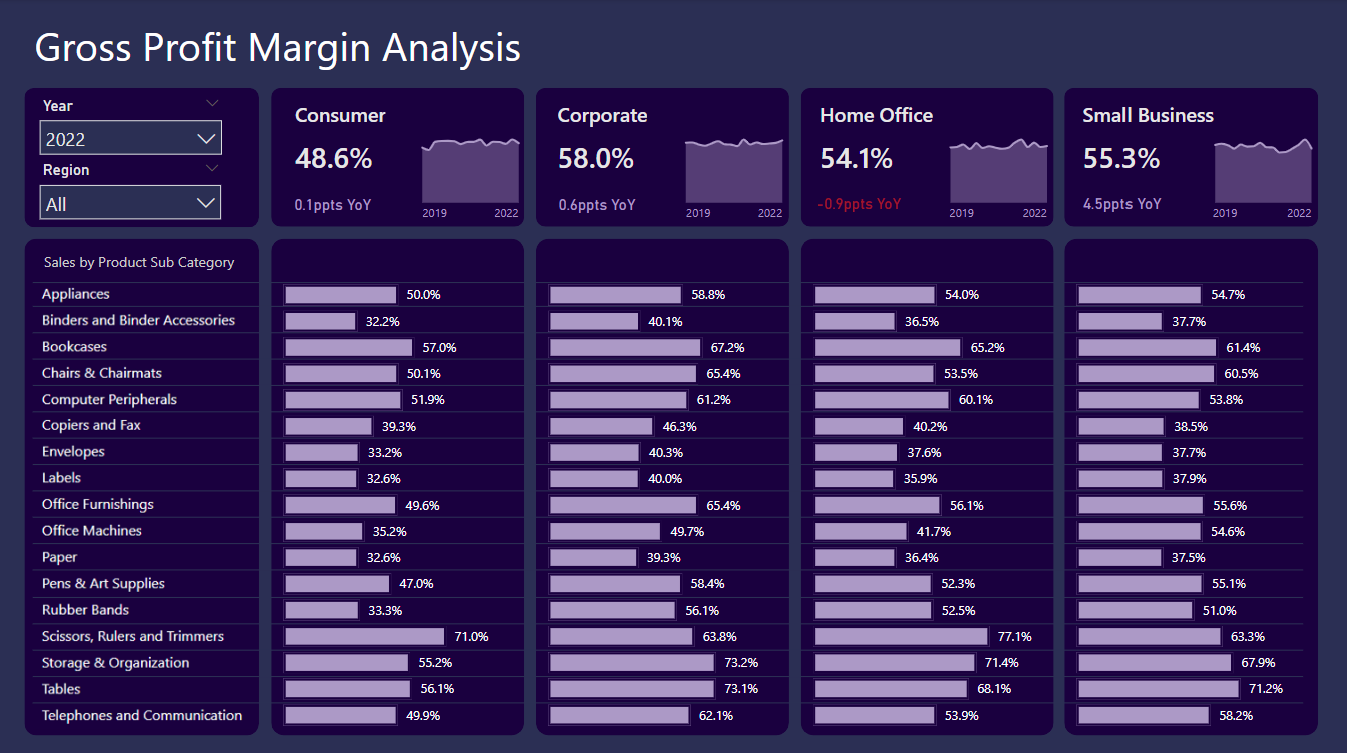

Layout of this report page (visuals, bound fields, positions):
{"tool":"powerbi","page":{"name":"Profitability Analysis by Product and Segment","canvas":[1280,720],"ordinal":2},"visuals":[{"type":"shape","box":[25,83.8,222.5,132.5],"z":0},{"type":"shape","box":[25,227.5,222.5,471.2],"z":1000},{"type":"shape","box":[510,83.7,240,132],"z":2000},{"type":"shape","box":[761.5,83.8,240,132],"z":3000},{"type":"shape","box":[1011.5,84,240,132],"z":4000},{"type":"shape","box":[258.8,83.7,240,132],"z":5000},{"type":"cardVisual","fields":{"Data":["orders_cleaned.Weighted Avg Margin - Consumer (%)","orders_cleaned.Weighted Avg Margin - Corporate","orders_cleaned.Weighted Avg Margin - Home Office","orders_cleaned.Weighted Avg Margin - Small Business"]},"box":[255.2,87.5,997.5,111.2],"z":6000},{"type":"slicer","fields":{"Values":["orders_cleaned.ORDER_YEAR"]},"box":[30,87.5,192.5,71.2],"z":7000},{"type":"areaChart","fields":{"Category":["orders_cleaned.ORDERDATE.Variation.Date Hierarchy.Year","orders_cleaned.ORDERDATE.Variation.Date Hierarchy.Quarter"],"Y":["orders_cleaned.Weighted Avg Margin - Consumer"]},"box":[387.5,118.8,121.4,80],"z":8000},{"type":"areaChart","fields":{"Category":["orders_cleaned.ORDERDATE.Variation.Date Hierarchy.Year","orders_cleaned.ORDERDATE.Variation.Date Hierarchy.Quarter"],"Y":["orders_cleaned.Weighted Avg Margin - Corporate"]},"box":[637.7,118.7,121.4,80],"z":9000},{"type":"areaChart","fields":{"Category":["orders_cleaned.ORDERDATE.Variation.Date Hierarchy.Year","orders_cleaned.ORDERDATE.Variation.Date Hierarchy.Quarter"],"Y":["orders_cleaned.Weighted Avg Margin - Home Office"]},"box":[888.2,118.8,121.4,80],"z":10000},{"type":"areaChart","fields":{"Category":["orders_cleaned.ORDERDATE.Variation.Date Hierarchy.Year","orders_cleaned.ORDERDATE.Variation.Date Hierarchy.Quarter"],"Y":["orders_cleaned.Weighted Avg Margin - Small Business"]},"box":[1138.7,119.1,121.4,80],"z":11000},{"type":"textbox","box":[398,187,49,33],"z":12000},{"type":"textbox","box":[466,187,46,34],"z":13000},{"type":"textbox","box":[647,187,51,33],"z":14000},{"type":"textbox","box":[715.8,187.2,42.5,32.5],"z":15000},{"type":"textbox","box":[898,187.2,42.5,32.5],"z":16000},{"type":"textbox","box":[966.7,187.2,42.5,32.5],"z":17000},{"type":"textbox","box":[1146.2,187.5,41.2,32.5],"z":18000},{"type":"textbox","box":[1216.2,187.5,43.8,28.8],"z":19000},{"type":"card","fields":{"Values":["orders_cleaned.Weighted Avg Margin YoY Change - Consumer (ppts)"]},"box":[265.5,178.3,103.2,34.9],"z":20000},{"type":"card","fields":{"Values":["orders_cleaned.Weighted Avg Margin YoY Change - Corporate (ppts)"]},"box":[516.2,178.3,104.6,34.9],"z":21000},{"type":"card","fields":{"Values":["orders_cleaned.Weighted Avg Margin YoY Change - Home Office (ppts)"]},"box":[766.1,178.6,100.5,34.4],"z":22000},{"type":"card","fields":{"Values":["orders_cleaned.Weighted Avg Margin YoY Change - Small Business (ppts)"]},"box":[1013.5,178.6,104.5,34.4],"z":23000},{"type":"shape","box":[258.8,227.5,240,471.2],"z":24000},{"type":"shape","box":[510,227.5,240,471.2],"z":25000},{"type":"shape","box":[761.2,227.5,240,471.2],"z":26000},{"type":"shape","box":[1011.2,227.5,240,471.2],"z":27000},{"type":"textbox","box":[30,13.8,833.7,68.7],"z":28000},{"type":"image","box":[28.9,262.2,220,435.6],"z":29000},{"type":"slicer","fields":{"Values":["orders_cleaned.REGION"]},"box":[30,148.9,192.2,71.1],"z":30000},{"type":"shape","box":[32.9,272,1203.8,40],"z":31000},{"type":"shape","box":[32.9,297,1203.8,40],"z":32000},{"type":"shape","box":[32.9,322,1203.8,40],"z":33000},{"type":"shape","box":[32.9,347,1203.8,40],"z":34000},{"type":"shape","box":[32.9,372,1203.8,40],"z":35000},{"type":"shape","box":[32.9,447,1203.8,40],"z":36000},{"type":"shape","box":[32.9,397,1203.8,40],"z":37000},{"type":"shape","box":[32.9,472,1203.8,40],"z":38000},{"type":"shape","box":[32.9,497,1203.8,40],"z":39000},{"type":"shape","box":[32.9,522,1203.8,40],"z":40000},{"type":"shape","box":[32.9,547,1203.8,40],"z":41000},{"type":"shape","box":[32.9,572,1203.8,40],"z":42000},{"type":"shape","box":[32.9,597,1203.8,40],"z":43000},{"type":"shape","box":[32.9,622,1203.8,40],"z":44000},{"type":"shape","box":[32.9,647,1203.8,40],"z":45000},{"type":"shape","box":[32.9,422,1203.8,40],"z":46000},{"type":"barChart","fields":{"Category":["ProductSubcategoryTable.ProductSubcategory"],"Y":["orders_cleaned.Weighted Avg Margin - Consumer"]},"box":[266.1,257.8,227,436.3],"z":47000},{"type":"barChart","fields":{"Category":["ProductSubcategoryTable.ProductSubcategory"],"Y":["orders_cleaned.Weighted Avg Margin - Corporate"]},"box":[516.8,257.8,227,436.3],"z":48000},{"type":"barChart","fields":{"Category":["ProductSubcategoryTable.ProductSubcategory"],"Y":["orders_cleaned.Weighted Avg Margin - Home Office"]},"box":[767.4,257.8,227,436.3],"z":49000},{"type":"barChart","fields":{"Category":["ProductSubcategoryTable.ProductSubcategory"],"Y":["orders_cleaned.Weighted Avg Margin - Small Business"]},"box":[1018.1,257.8,227,436.3],"z":50000},{"type":"shape","box":[33.1,248.3,1203.8,40.2],"z":51000},{"type":"textbox","box":[38.9,235.6,220,33.3],"z":52000}]}

Visuals, with their boxes in screenshot pixels (x1, y1, x2, y2), scaled from the page's 1280x720 canvas onto the 1347x753 screenshot:
shape: 26 88 260 226
shape: 26 238 260 731
shape: 537 88 789 226
shape: 801 88 1054 226
shape: 1064 88 1317 226
shape: 272 88 525 226
cardVisual - orders_cleaned.Weighted Avg Margin - Consumer (%) x orders_cleaned.Weighted Avg Margin - Corporate: 269 92 1318 208
slicer - orders_cleaned.ORDER_YEAR: 32 92 234 166
areaChart - orders_cleaned.ORDERDATE.Variation.Date Hierarchy.Year x orders_cleaned.ORDERDATE.Variation.Date Hierarchy.Quarter: 408 124 536 208
areaChart - orders_cleaned.ORDERDATE.Variation.Date Hierarchy.Year x orders_cleaned.ORDERDATE.Variation.Date Hierarchy.Quarter: 671 124 799 208
areaChart - orders_cleaned.ORDERDATE.Variation.Date Hierarchy.Year x orders_cleaned.ORDERDATE.Variation.Date Hierarchy.Quarter: 935 124 1062 208
areaChart - orders_cleaned.ORDERDATE.Variation.Date Hierarchy.Year x orders_cleaned.ORDERDATE.Variation.Date Hierarchy.Quarter: 1198 125 1326 208
textbox: 419 196 470 230
textbox: 490 196 539 231
textbox: 681 196 735 230
textbox: 753 196 798 230
textbox: 945 196 990 230
textbox: 1017 196 1062 230
textbox: 1206 196 1250 230
textbox: 1280 196 1326 226
card - orders_cleaned.Weighted Avg Margin YoY Change - Consumer (ppts): 279 186 388 223
card - orders_cleaned.Weighted Avg Margin YoY Change - Corporate (ppts): 543 186 653 223
card - orders_cleaned.Weighted Avg Margin YoY Change - Home Office (ppts): 806 187 912 223
card - orders_cleaned.Weighted Avg Margin YoY Change - Small Business (ppts): 1067 187 1177 223
shape: 272 238 525 731
shape: 537 238 789 731
shape: 801 238 1054 731
shape: 1064 238 1317 731
textbox: 32 14 909 86
image: 30 274 262 730
slicer - orders_cleaned.REGION: 32 156 234 230
shape: 35 284 1301 326
shape: 35 311 1301 352
shape: 35 337 1301 379
shape: 35 363 1301 405
shape: 35 389 1301 431
shape: 35 467 1301 509
shape: 35 415 1301 457
shape: 35 494 1301 535
shape: 35 520 1301 562
shape: 35 546 1301 588
shape: 35 572 1301 614
shape: 35 598 1301 640
shape: 35 624 1301 666
shape: 35 651 1301 692
shape: 35 677 1301 718
shape: 35 441 1301 483
barChart - ProductSubcategoryTable.ProductSubcategory x orders_cleaned.Weighted Avg Margin - Consumer: 280 270 519 726
barChart - ProductSubcategoryTable.ProductSubcategory x orders_cleaned.Weighted Avg Margin - Corporate: 544 270 783 726
barChart - ProductSubcategoryTable.ProductSubcategory x orders_cleaned.Weighted Avg Margin - Home Office: 808 270 1046 726
barChart - ProductSubcategoryTable.ProductSubcategory x orders_cleaned.Weighted Avg Margin - Small Business: 1071 270 1310 726
shape: 35 260 1302 302
textbox: 41 246 272 281
